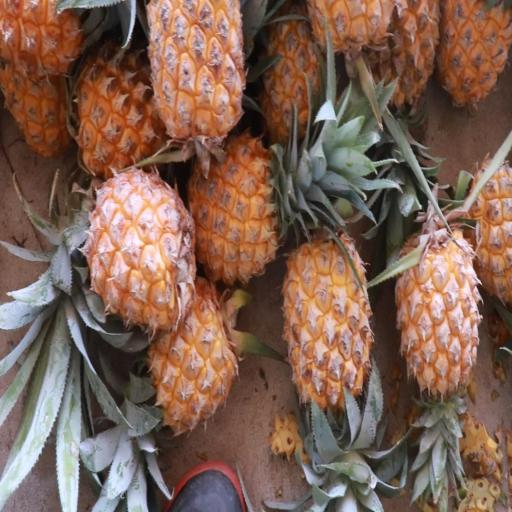Pineapple - v8 v1: (281, 224, 373, 434), (84, 168, 198, 337), (395, 218, 482, 419), (142, 267, 240, 440), (186, 127, 287, 291), (146, 0, 247, 150), (75, 31, 169, 179), (439, 0, 512, 121), (465, 153, 512, 306)
